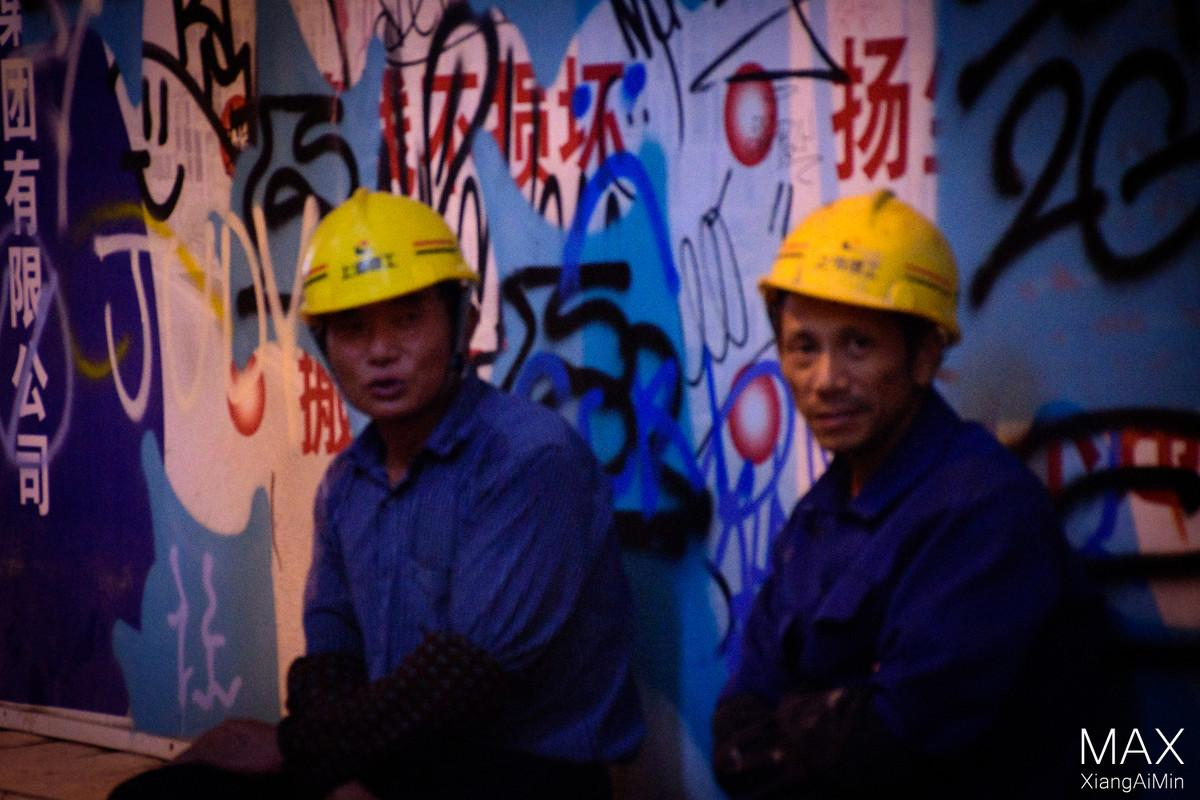helmet: (763, 191, 962, 331), (291, 190, 474, 312)
